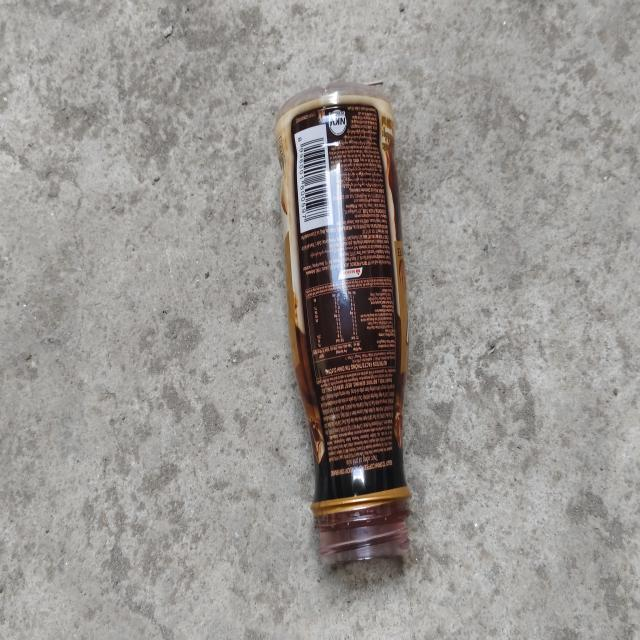Bottle: (276, 83, 411, 563)
